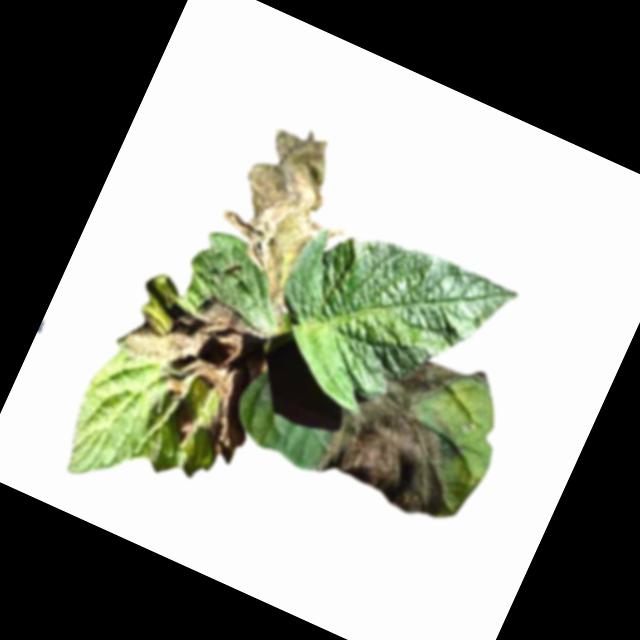Late_blight: (195, 109, 382, 321), (313, 334, 509, 533), (116, 266, 265, 398), (196, 337, 284, 466), (167, 404, 202, 442), (158, 372, 188, 401)
